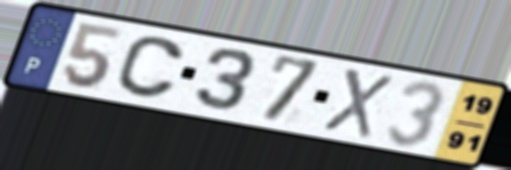3: (383, 78, 451, 152), (192, 47, 262, 114)
5: (61, 19, 126, 91)
7: (261, 51, 323, 126)
C: (112, 34, 188, 101)
X: (318, 65, 396, 142)
